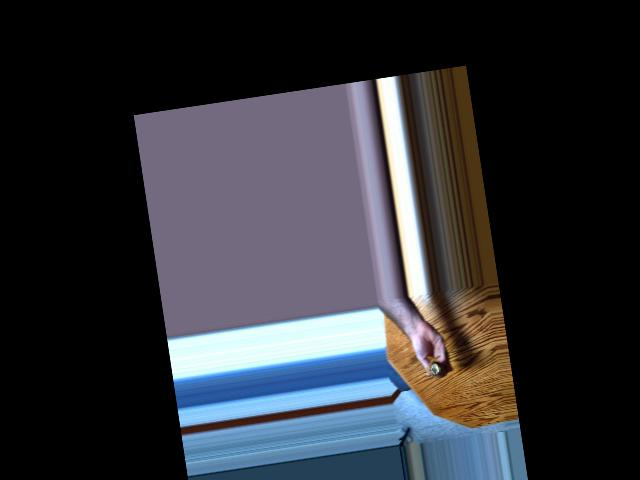sweet_potato: (425, 361, 444, 382)
